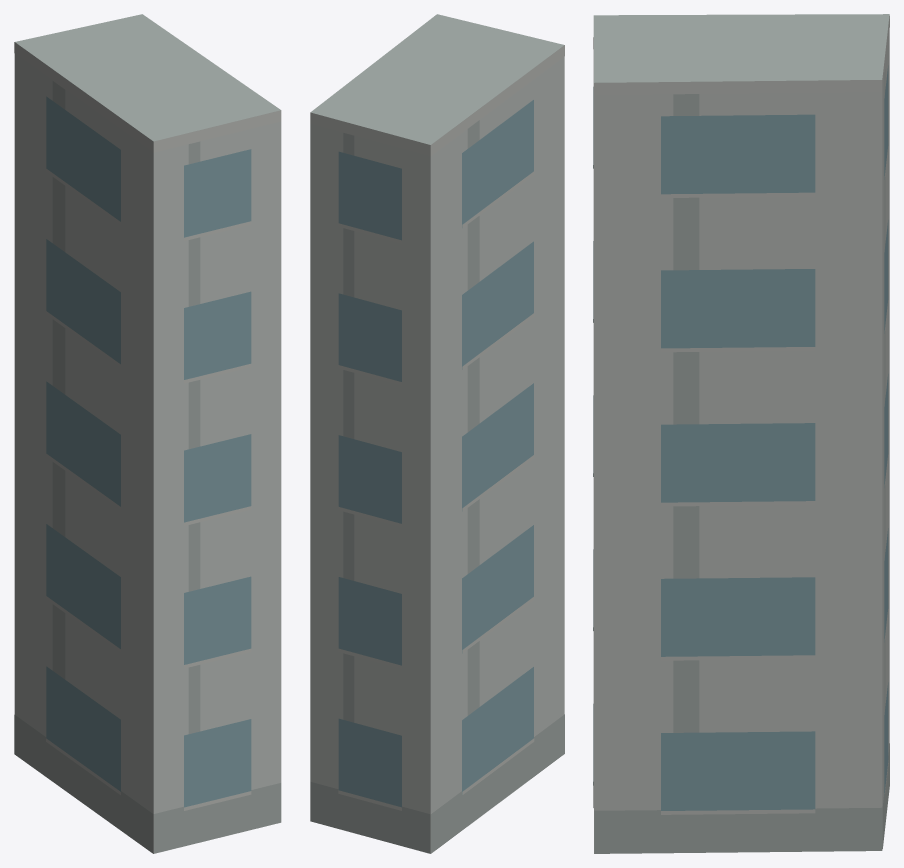
File: survey-upis-32634718.glb
3 views of the same model, side by side, from view 1: azimuth 30°, elevation 25°; view 2: azimuth 150°, elevation 25°; view 3: azimuth 270°, elevation 25° (orthographic). The views are drawn at different scales.
Visible parts, largest first — view 1: survey-upis-32634718.tmp; view 2: survey-upis-32634718.tmp; view 3: survey-upis-32634718.tmp.
Boxes of the visible parts, x1,y1,x2,y2 form: survey-upis-32634718.tmp: [14, 14, 281, 853]; survey-upis-32634718.tmp: [310, 14, 564, 853]; survey-upis-32634718.tmp: [593, 14, 889, 853].
Bounding box in the file's own units: 2.93 × 15.25 × 5.32.
